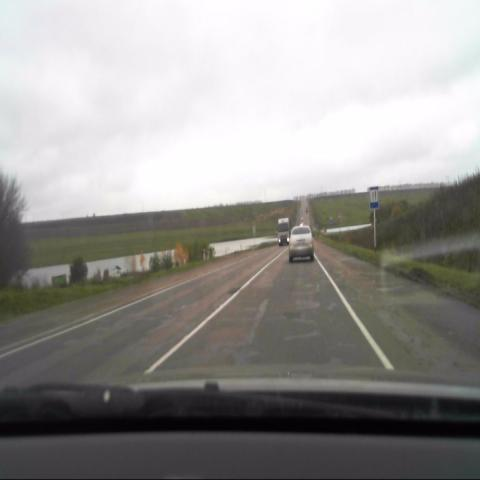7_7: (369, 186, 379, 210)
